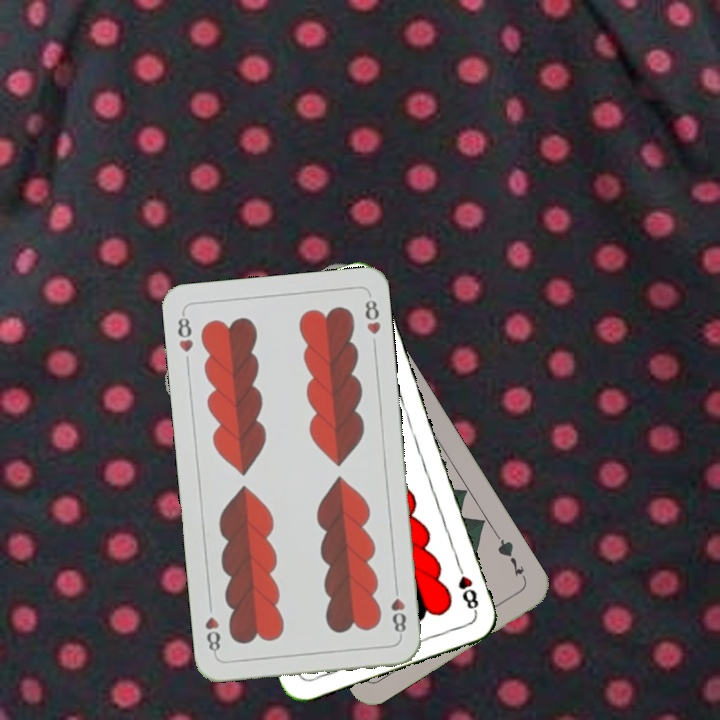G7: (491, 531, 529, 584)
H8: (452, 559, 481, 616), (387, 580, 409, 639), (174, 309, 196, 355)
